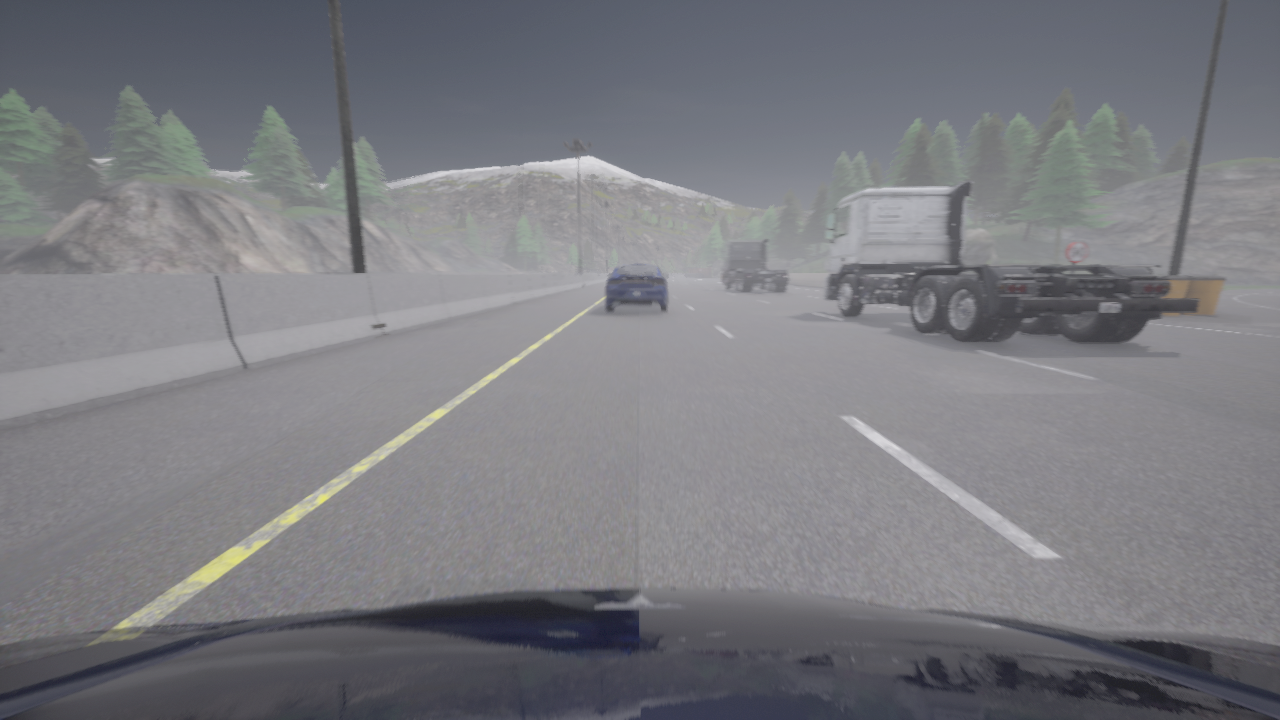cyclist: (0, 588, 1279, 719), (824, 181, 1198, 342), (605, 264, 667, 311), (719, 244, 788, 279), (734, 270, 757, 287)
